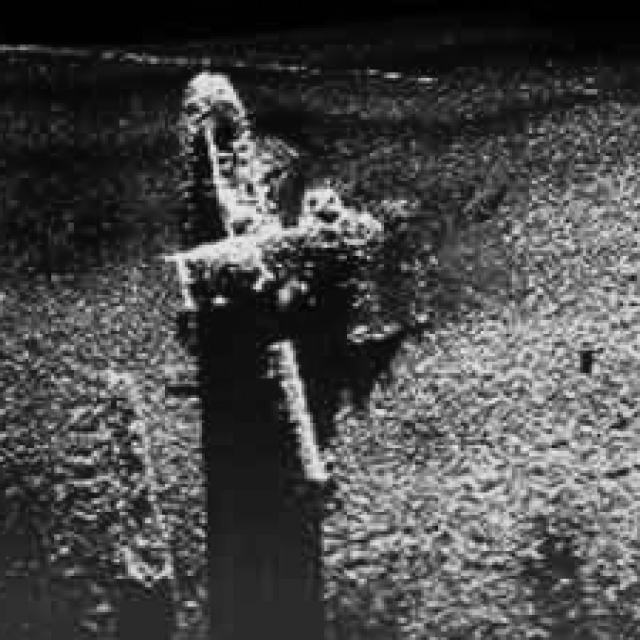plane: (108, 55, 469, 492)
